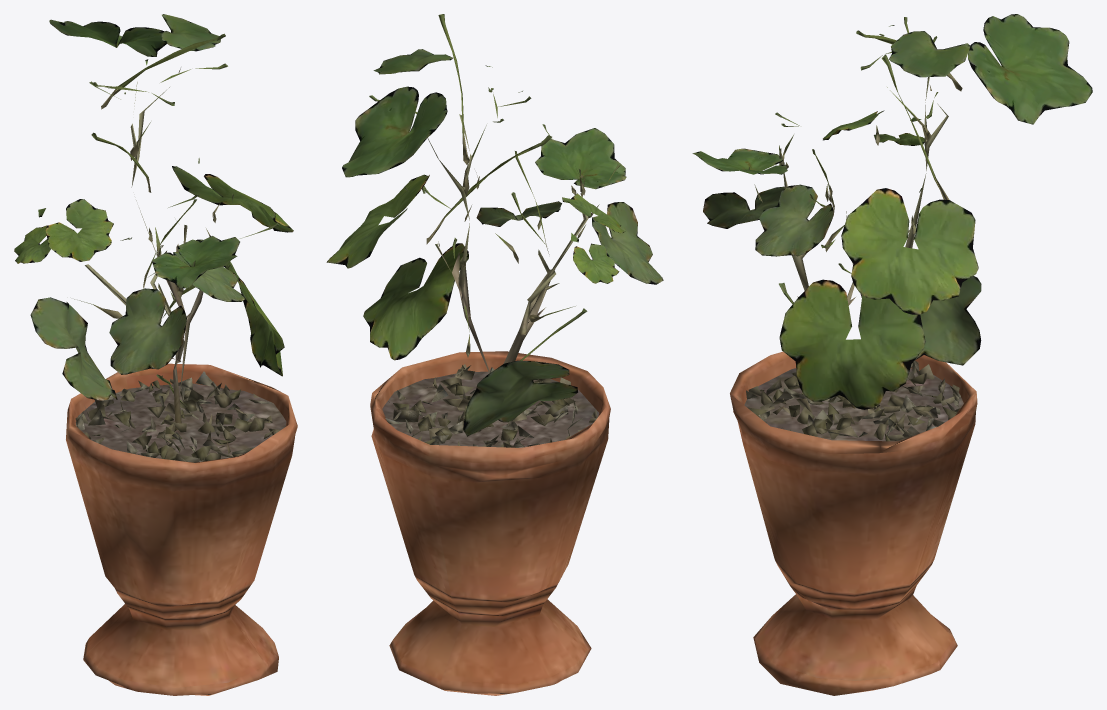
Rendered from jardiniere_plante_a_lod1.glb.
The picture shows the model from 3 angles, left to right: view 1: azimuth 30°, elevation 25°; view 2: azimuth 150°, elevation 25°; view 3: azimuth 270°, elevation 25°; orthographic projection. The views are drawn at different scales.
Parts seen in each view (by area): view 1: potted_plant_01_stem, potted_plant_01_leaves; view 2: potted_plant_01_stem, potted_plant_01_leaves; view 3: potted_plant_01_stem, potted_plant_01_leaves.
Part boxes in pixels (x1=…): potted_plant_01_stem: x1=66, y1=82, x2=297, y2=695; potted_plant_01_leaves: x1=14, y1=14, x2=293, y2=408; potted_plant_01_stem: x1=370, y1=114, x2=610, y2=695; potted_plant_01_leaves: x1=326, y1=14, x2=663, y2=436; potted_plant_01_stem: x1=730, y1=77, x2=977, y2=695; potted_plant_01_leaves: x1=692, y1=14, x2=1092, y2=409.
Bounding box in the file's own units: 0.5839 × 1.3 × 0.7349.
Materials: 2 (2 with a texture image).
